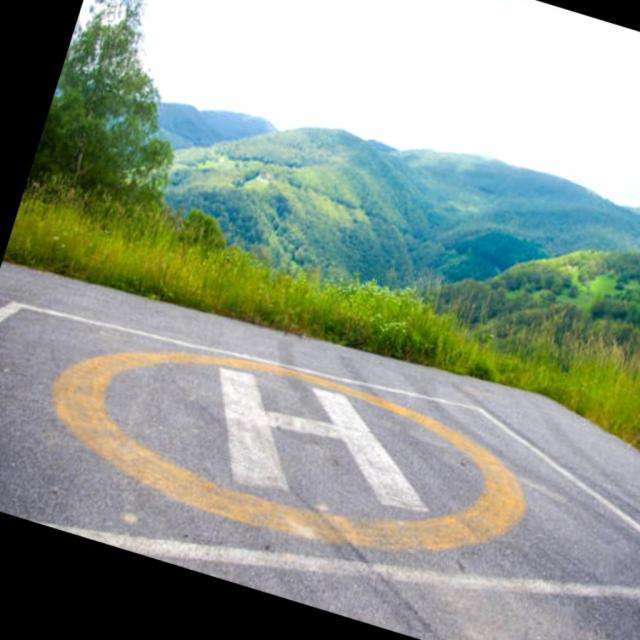helipad: (48, 346, 525, 558)
